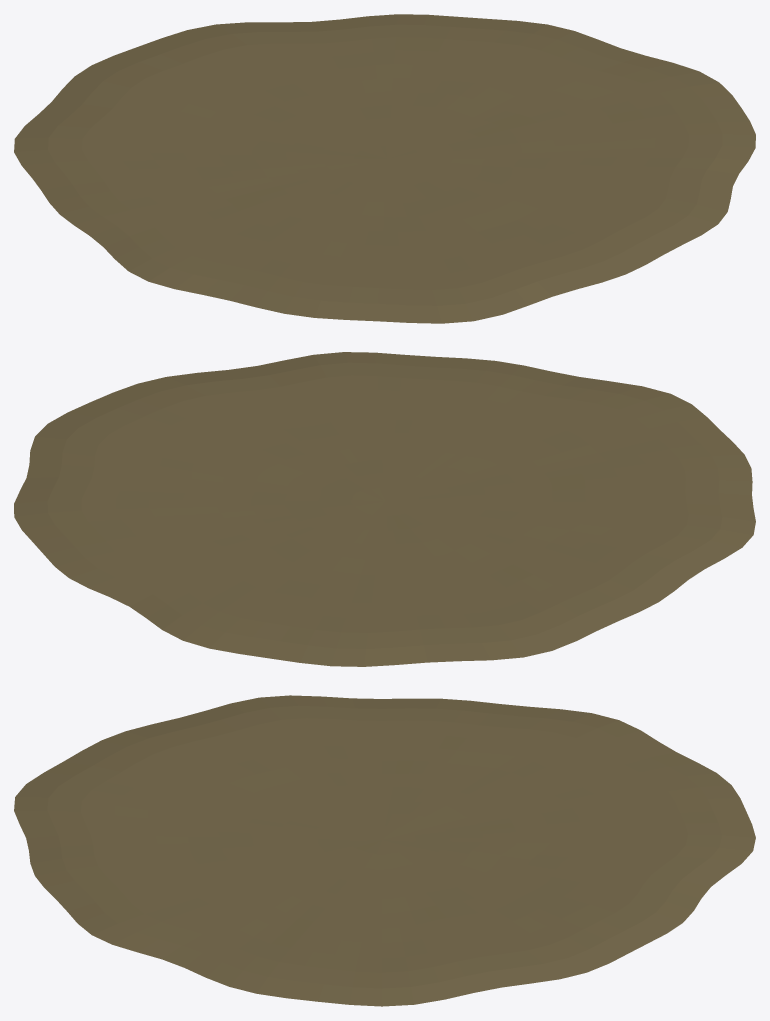
File: pike_clearing_patch.glb
The picture shows the model from 3 angles, top to bottom: view 1: azimuth 30°, elevation 25°; view 2: azimuth 150°, elevation 25°; view 3: azimuth 270°, elevation 25°; orthographic projection.
Visible parts, largest first — view 1: clearing_ground_LOD0; view 2: clearing_ground_LOD0; view 3: clearing_ground_LOD0.
Part boxes in pixels (box(x1,y1,x2,y2)): clearing_ground_LOD0: box(14, 14, 755, 323); clearing_ground_LOD0: box(14, 352, 755, 666); clearing_ground_LOD0: box(14, 695, 755, 1006).
Size of what is drawn, in the model's own units: 11.94 by 0.086 by 12.03.
